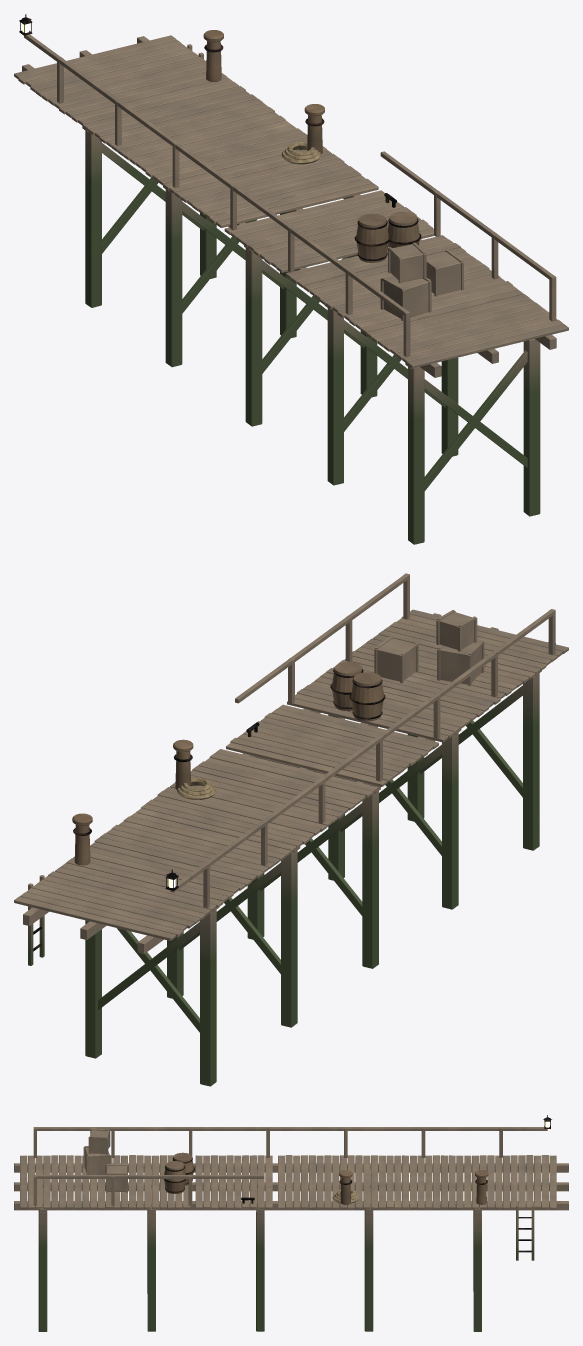
File: pier_straight.glb
3 views of the same model, one above another, from view 1: azimuth 30°, elevation 25°; view 2: azimuth 150°, elevation 25°; view 3: azimuth 270°, elevation 25° (orthographic). The views are drawn at different scales.
Parts seen in each view (by area): view 1: Straight_wood, Straight_iron; view 2: Straight_wood, Straight_iron, Straight_rope; view 3: Straight_wood, Straight_iron.
Part boxes in pixels (x1,y1,x2,y2): Straight_wood: (14,30,568,544); Straight_iron: (19,14,421,260); Straight_wood: (14,573,568,1086); Straight_iron: (33,668,385,951); Straight_rope: (177,777,216,799); Straight_wood: (14,1127,568,1331); Straight_iron: (163,1115,551,1252).
Size of the model in its own units: 3.23 by 4.9 by 14.3.
Materials: 4 (3 with a texture image).
